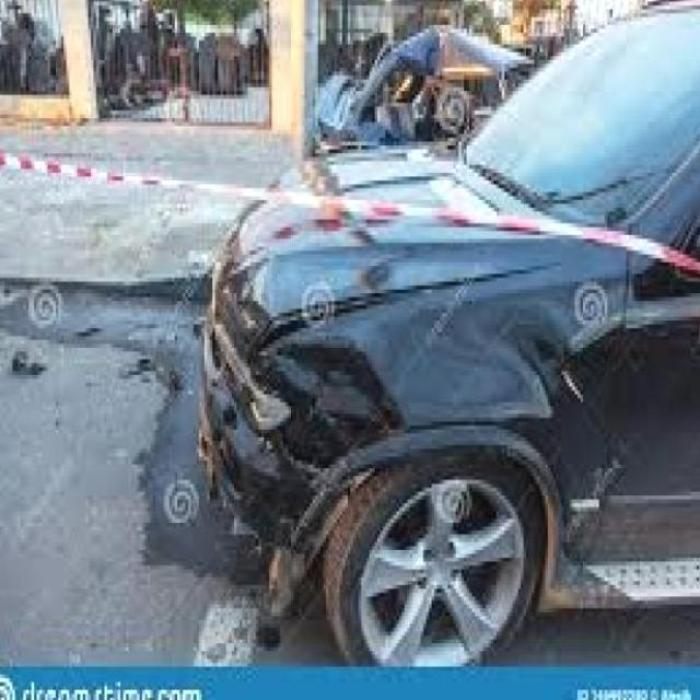Accident: (136, 154, 595, 653)
